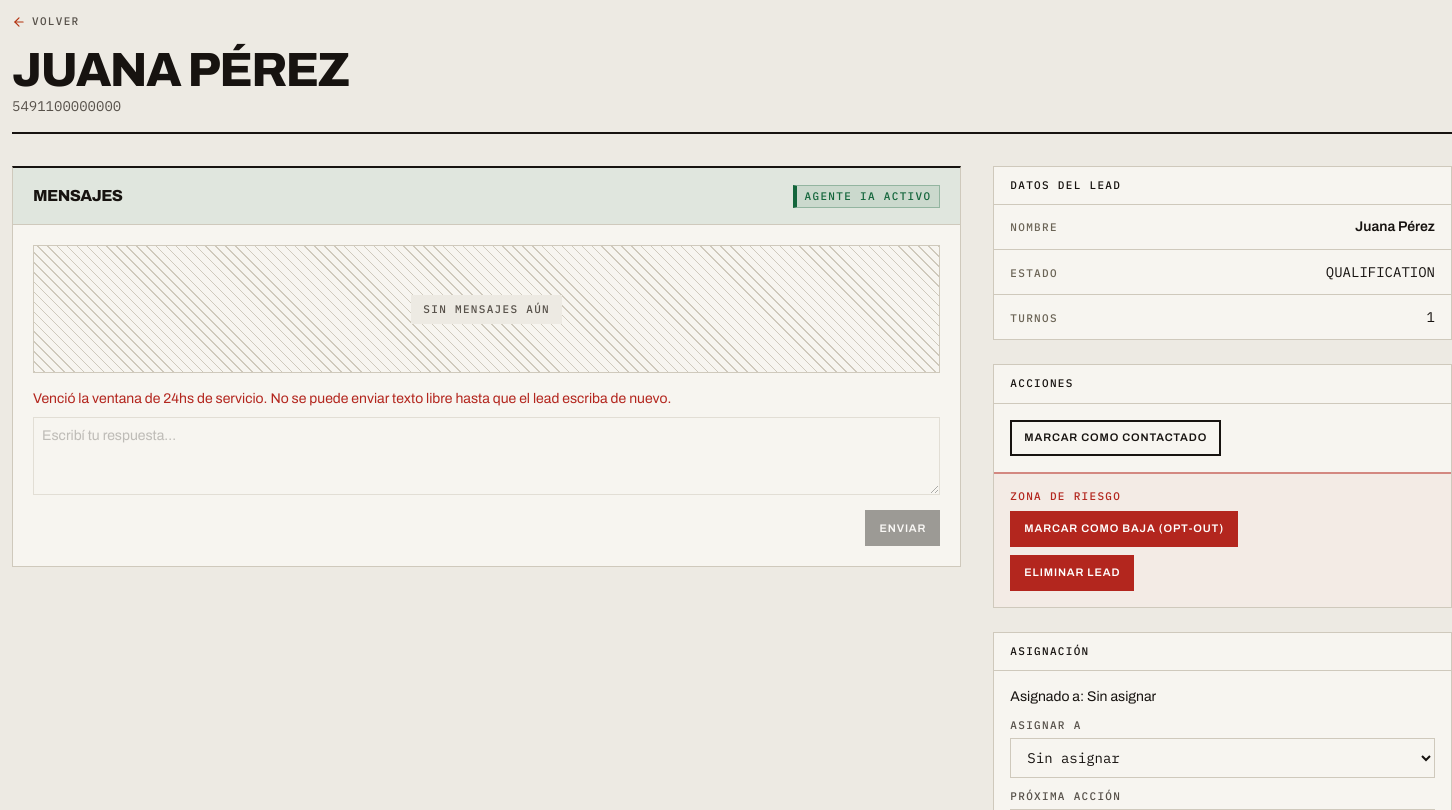
Test: LeadDetailPage › integración: marcar contactado actualiza el botón en pantalla sin recargar (AC-9/AC-11)
The width and height of the screenshot is (1452, 810).
Click the button with test id "contacted-toggle-btn" at (1116, 438), box [1010,420,1221,456]
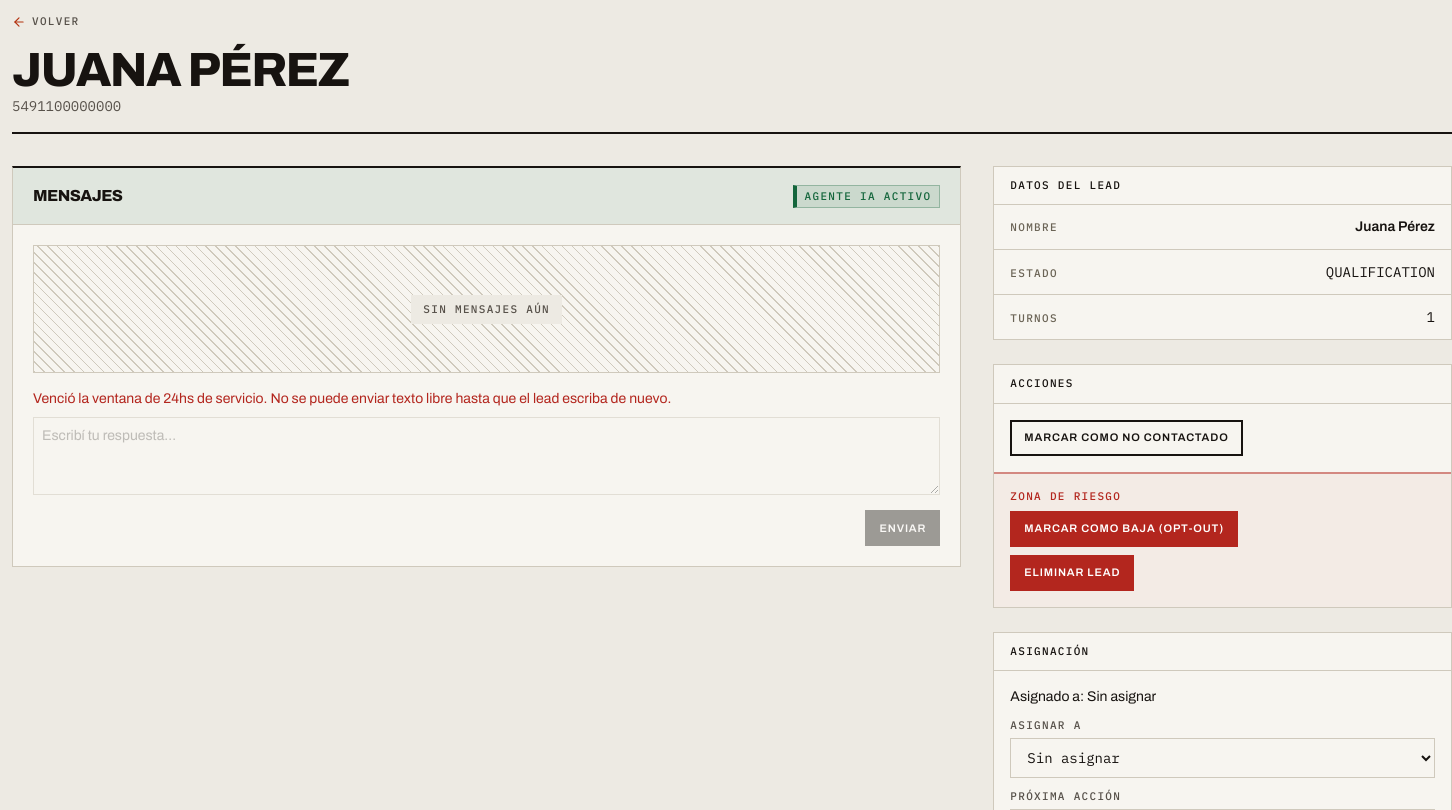
Check: the button with test id "contacted-toggle-btn" reads "Marcar como no contactado", box [1010,420,1243,456]
